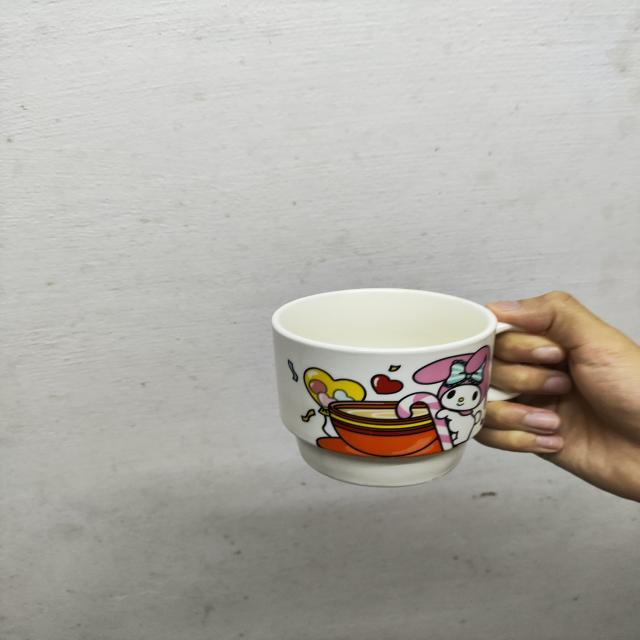cup: (256, 281, 555, 490)
